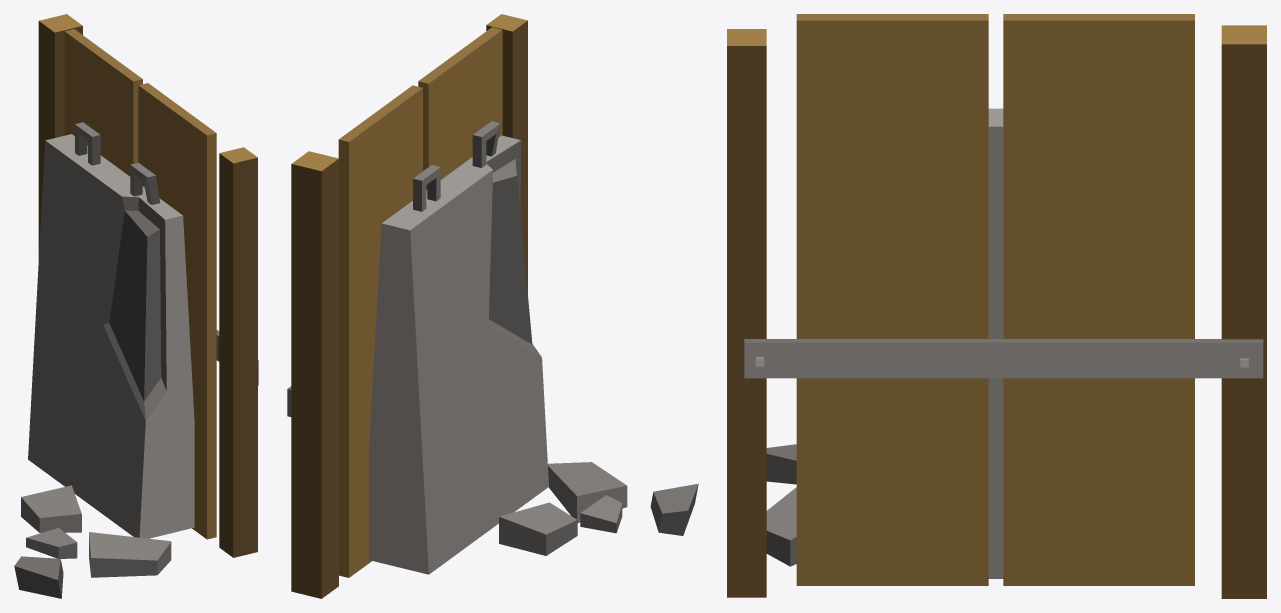
Rendered from FenceWoodL_Concrete_03.fbx.
3 views of the same model, side by side, from view 1: azimuth 30°, elevation 25°; view 2: azimuth 150°, elevation 25°; view 3: azimuth 270°, elevation 25° (orthographic). The views are drawn at different scales.
Parts seen in each view (by area): view 1: FenceWoodL_Concrete_03; view 2: FenceWoodL_Concrete_03; view 3: FenceWoodL_Concrete_03.
Boxes of the visible parts, bbox=[...] form: FenceWoodL_Concrete_03: bbox=[14, 14, 258, 598]; FenceWoodL_Concrete_03: bbox=[287, 14, 698, 598]; FenceWoodL_Concrete_03: bbox=[727, 14, 1266, 598].
Size of the model in its own units: 3.39 by 5.21 by 6.23.
